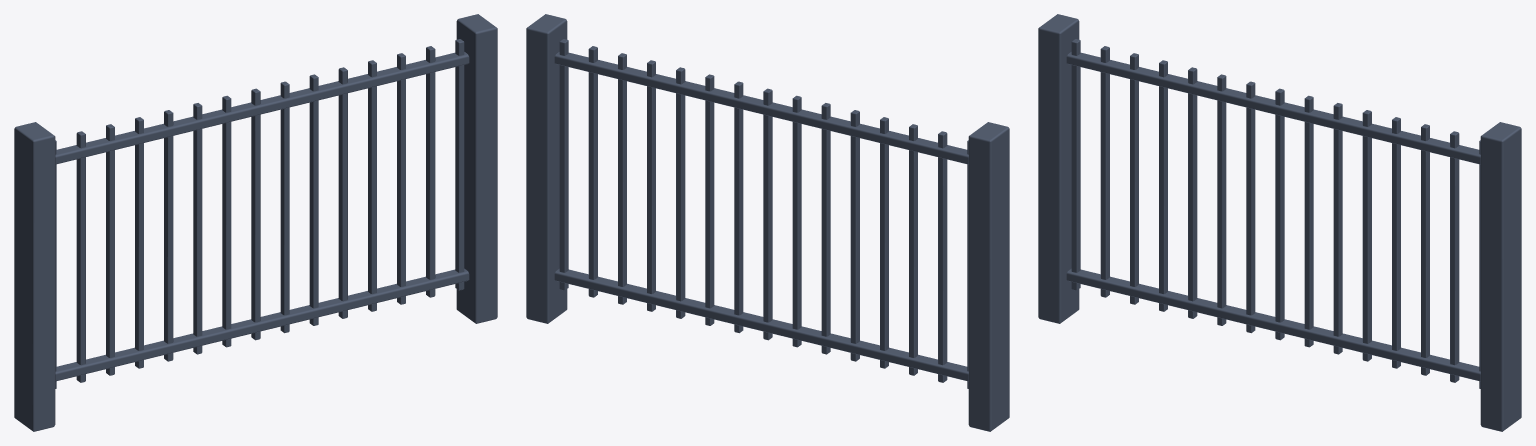
Rendered from garden-fence-metal-lite.glb.
The picture shows the model from 3 angles, left to right: view 1: azimuth 30°, elevation 25°; view 2: azimuth 150°, elevation 25°; view 3: azimuth 330°, elevation 25°; orthographic projection.
Visible parts, largest first — view 1: garden-fence-metal; view 2: garden-fence-metal; view 3: garden-fence-metal.
Boxes of the visible parts, x1=… form: garden-fence-metal: x1=14, y1=14, x2=497, y2=431; garden-fence-metal: x1=526, y1=14, x2=1009, y2=431; garden-fence-metal: x1=1038, y1=14, x2=1521, y2=431.
Size of the model in its own units: 2 by 1.2 by 0.15.
